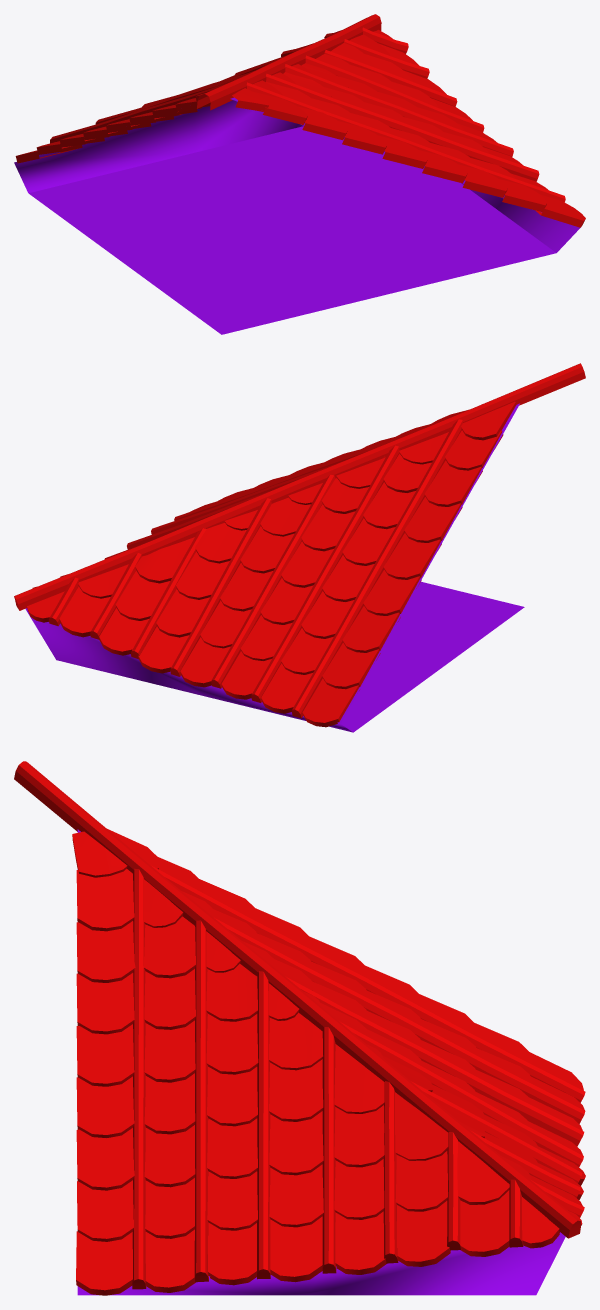
Rendered from SM_RoofVertex.fbx.
3 views of the same model, one above another, from view 1: azimuth 30°, elevation 25°; view 2: azimuth 150°, elevation 25°; view 3: azimuth 270°, elevation 25° (orthographic). The views are drawn at different scales.
Parts seen in each view (by area): view 1: VertexRoof_pCube752; view 2: VertexRoof_pCube752; view 3: VertexRoof_pCube752.
Part boxes in pixels (x1,y1,x2,y2): VertexRoof_pCube752: (14,14,585,334); VertexRoof_pCube752: (14,363,585,732); VertexRoof_pCube752: (14,761,585,1295).
Size of the model in its own units: 275 by 168 by 274.
